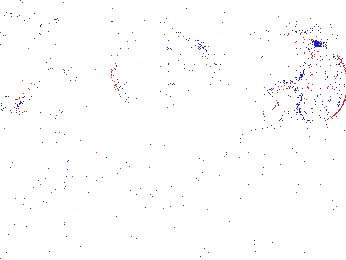moon jellyfish: (109, 37, 214, 114), (174, 69, 256, 153), (1, 32, 76, 120), (294, 45, 346, 123)
